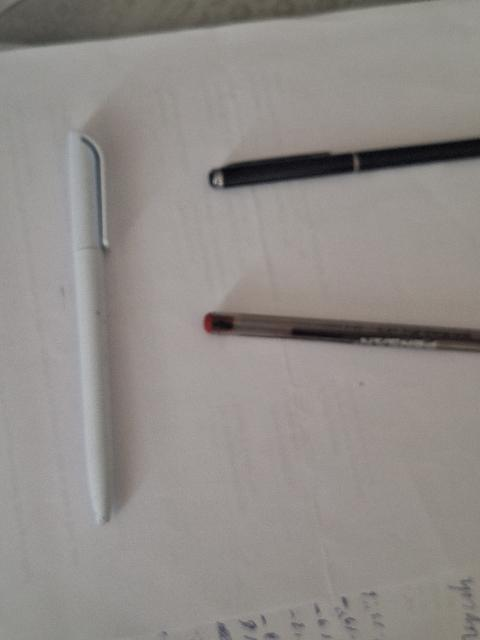writing_tool: (67, 135, 118, 529), (210, 132, 480, 190), (201, 307, 480, 355)
